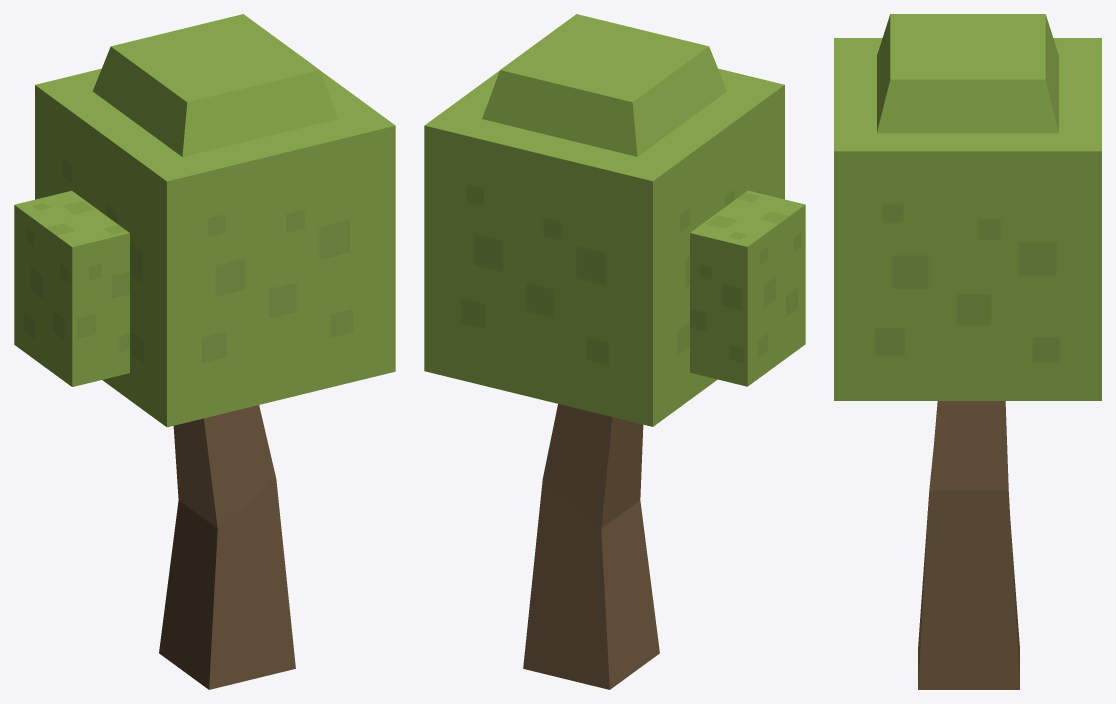
The model's file is Tree_05.fbx.
3 renders of one model, left to right at view 1: azimuth 30°, elevation 25°; view 2: azimuth 150°, elevation 25°; view 3: azimuth 270°, elevation 25°, orthographic.
Visible parts, largest first — view 1: Tree_05; view 2: Tree_05; view 3: Tree_05.
Part boxes in pixels (x1,y1,x2,y2): Tree_05: [14, 14, 395, 689]; Tree_05: [424, 14, 805, 689]; Tree_05: [834, 14, 1101, 689].
Size of the model in its own units: 1.97 by 3.98 by 1.57.
